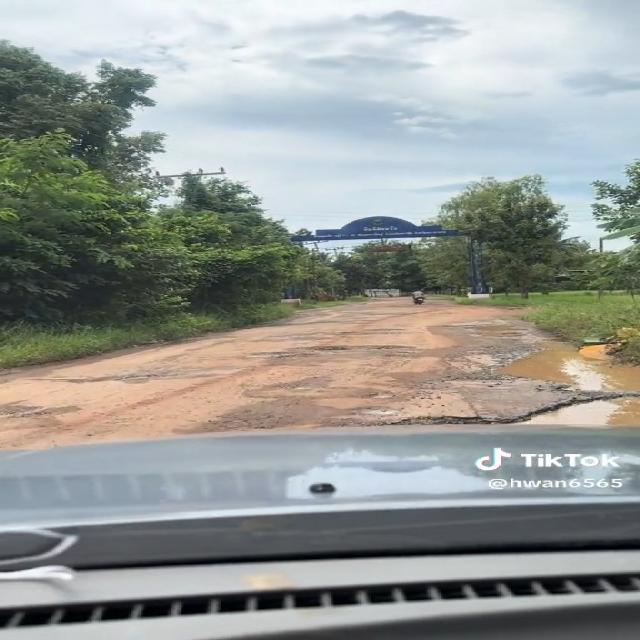Poth-hole: (187, 339, 257, 362)
